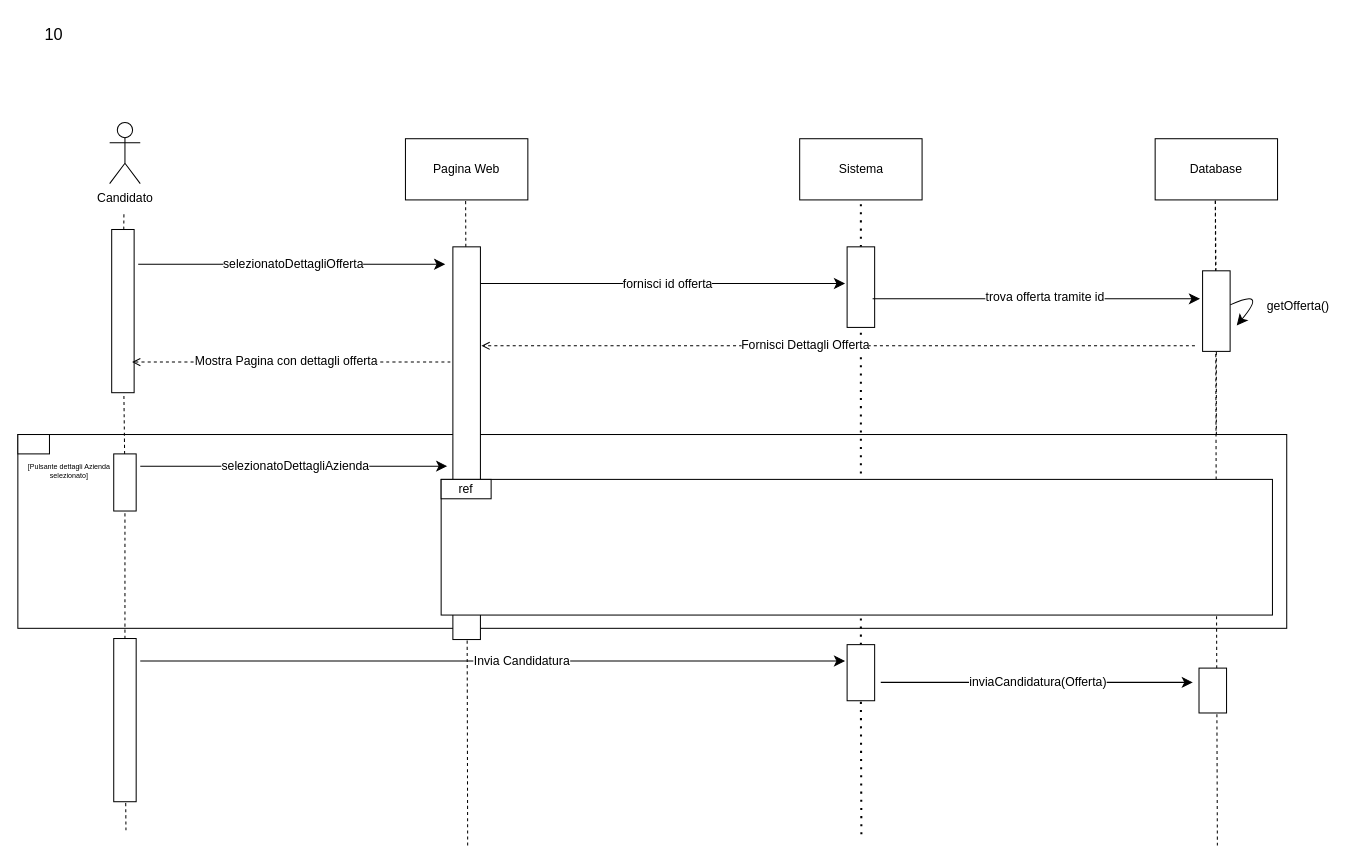
This 1346x863 diagram has some shape labels left out. The box of each missing label's shape, as (x1, y1, x2, y2) in pixels:
opt: (17, 434, 49, 454)
visualizzaProfiloAzienda (34): (440, 478, 1272, 615)
